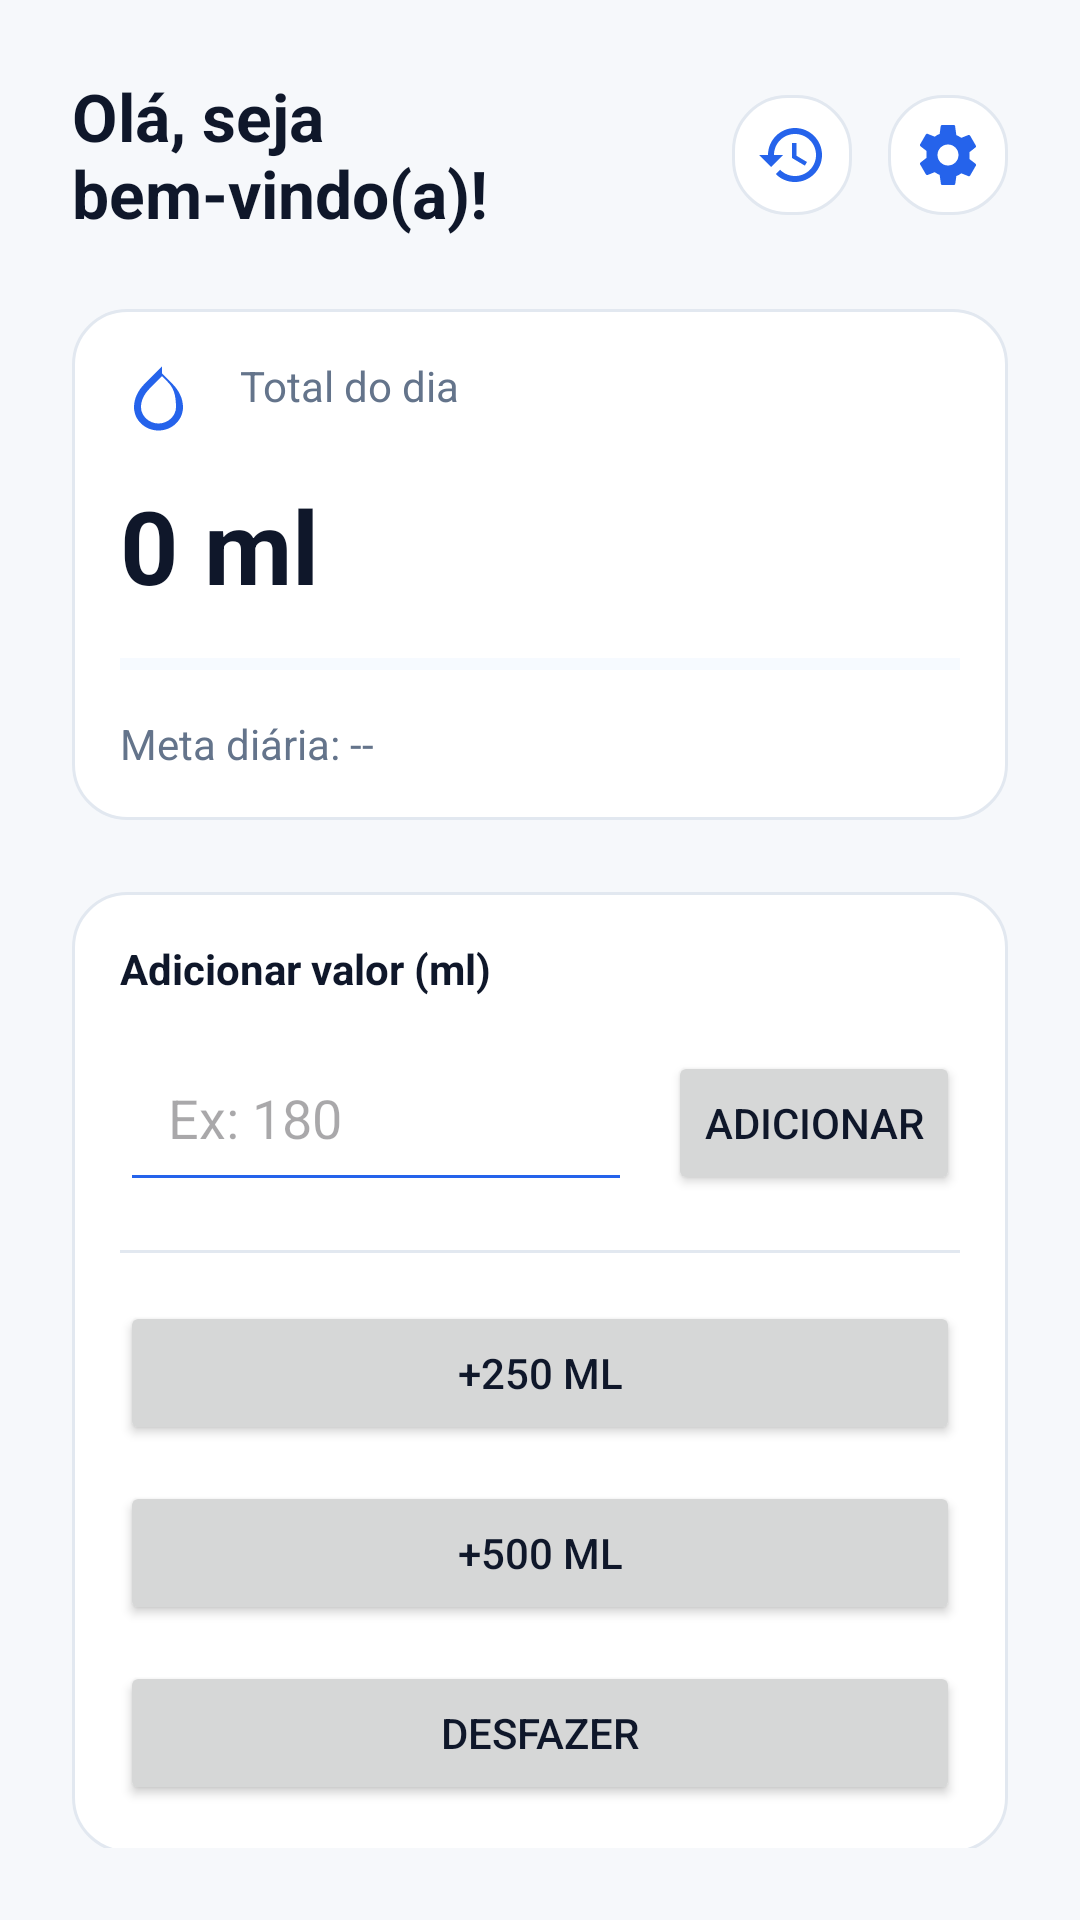

Screen size 1080×1920. Icon name, then its box in pixels as (x1=x1, y1=y1, x2=x2, y2=y2):
Configurações: (x1=920, y1=125, x2=976, y2=185)
Histórico: (x1=732, y1=95, x2=852, y2=215)
Ícone água: (x1=134, y1=366, x2=183, y2=431)
